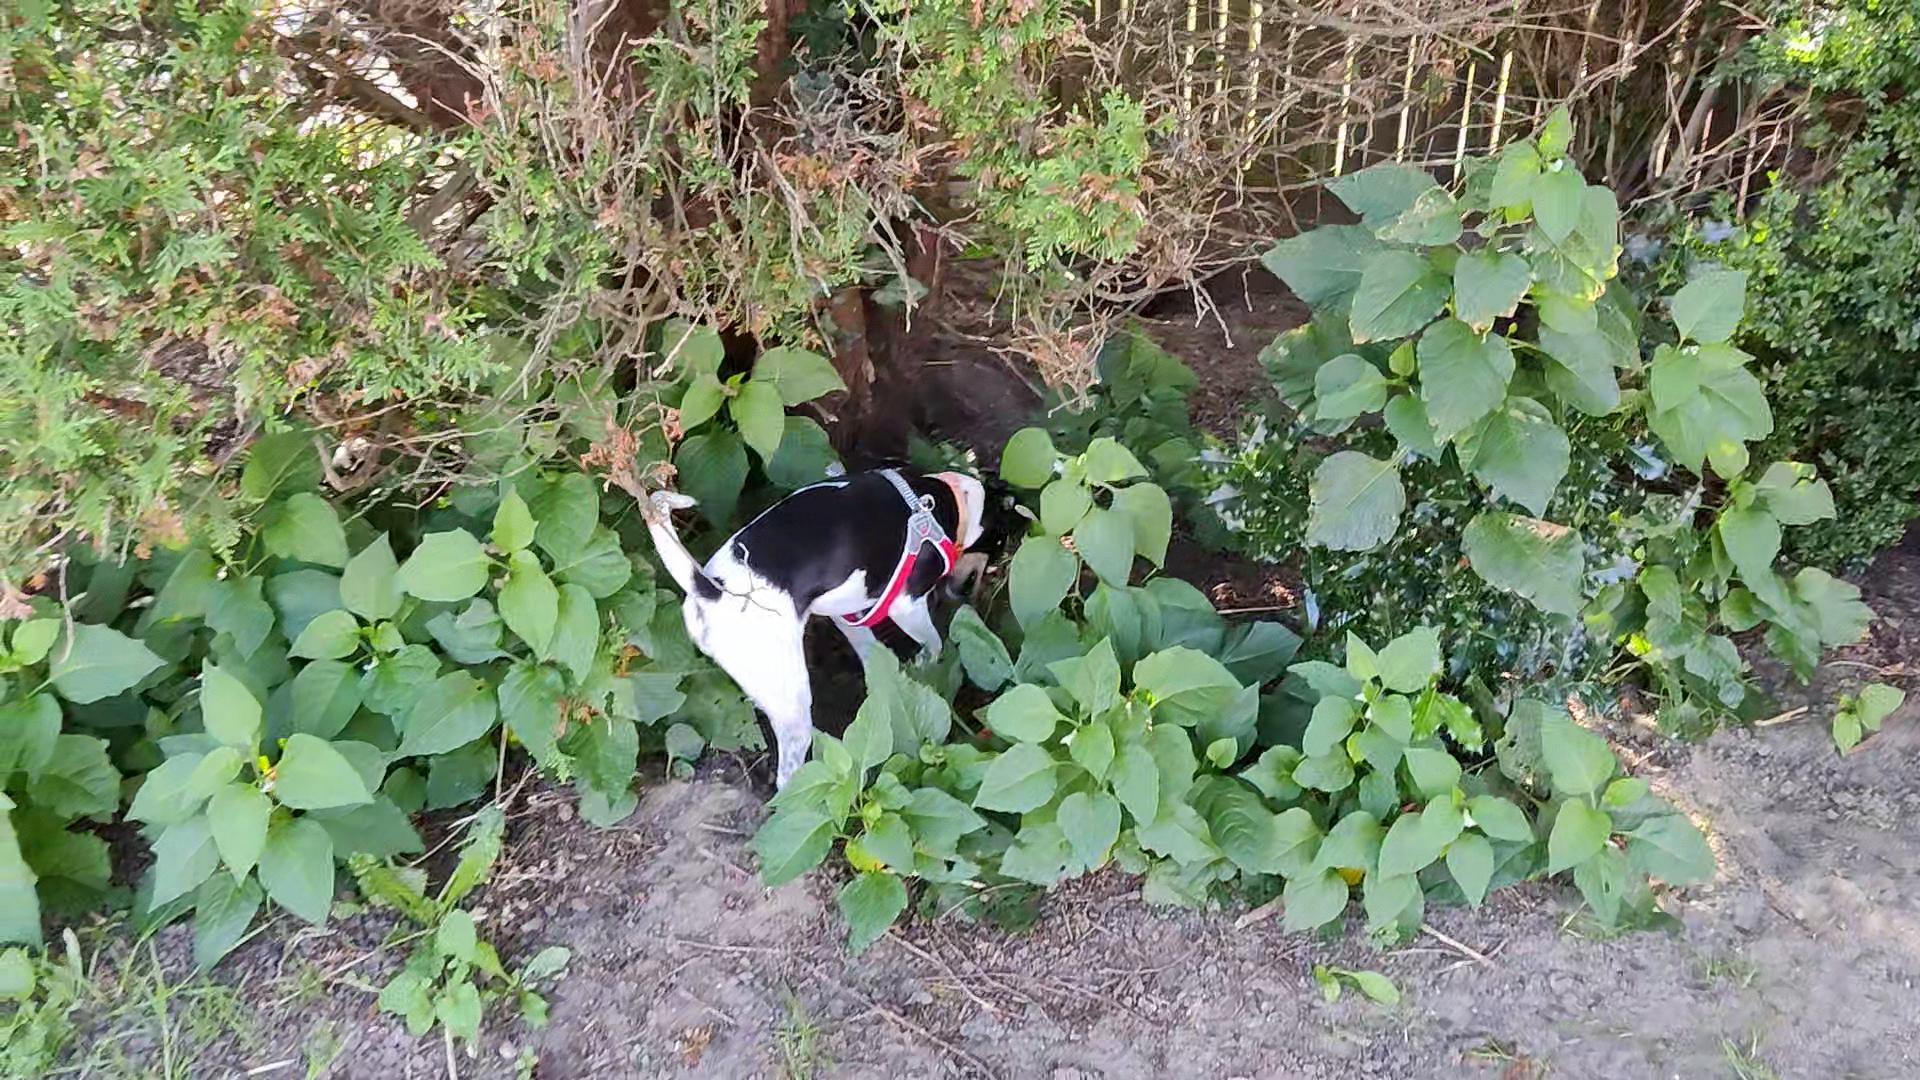Dog: (624, 411, 1059, 815)
